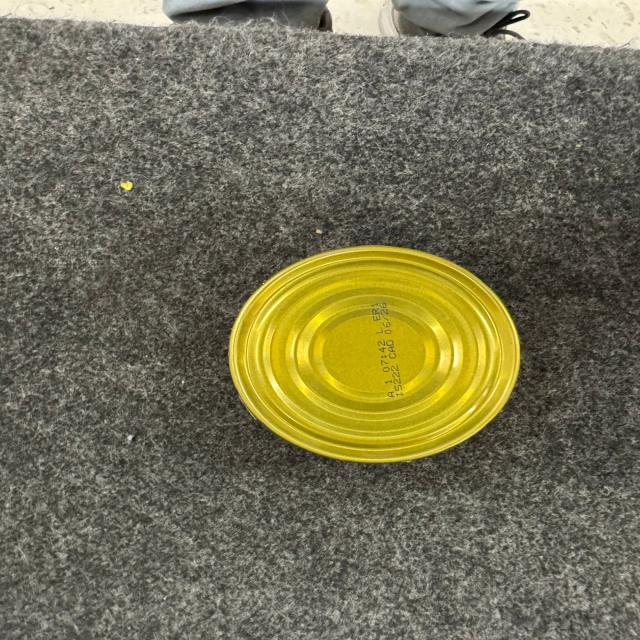ATUN DOLORES EN ACEITE 130GRS: (224, 240, 525, 467)
